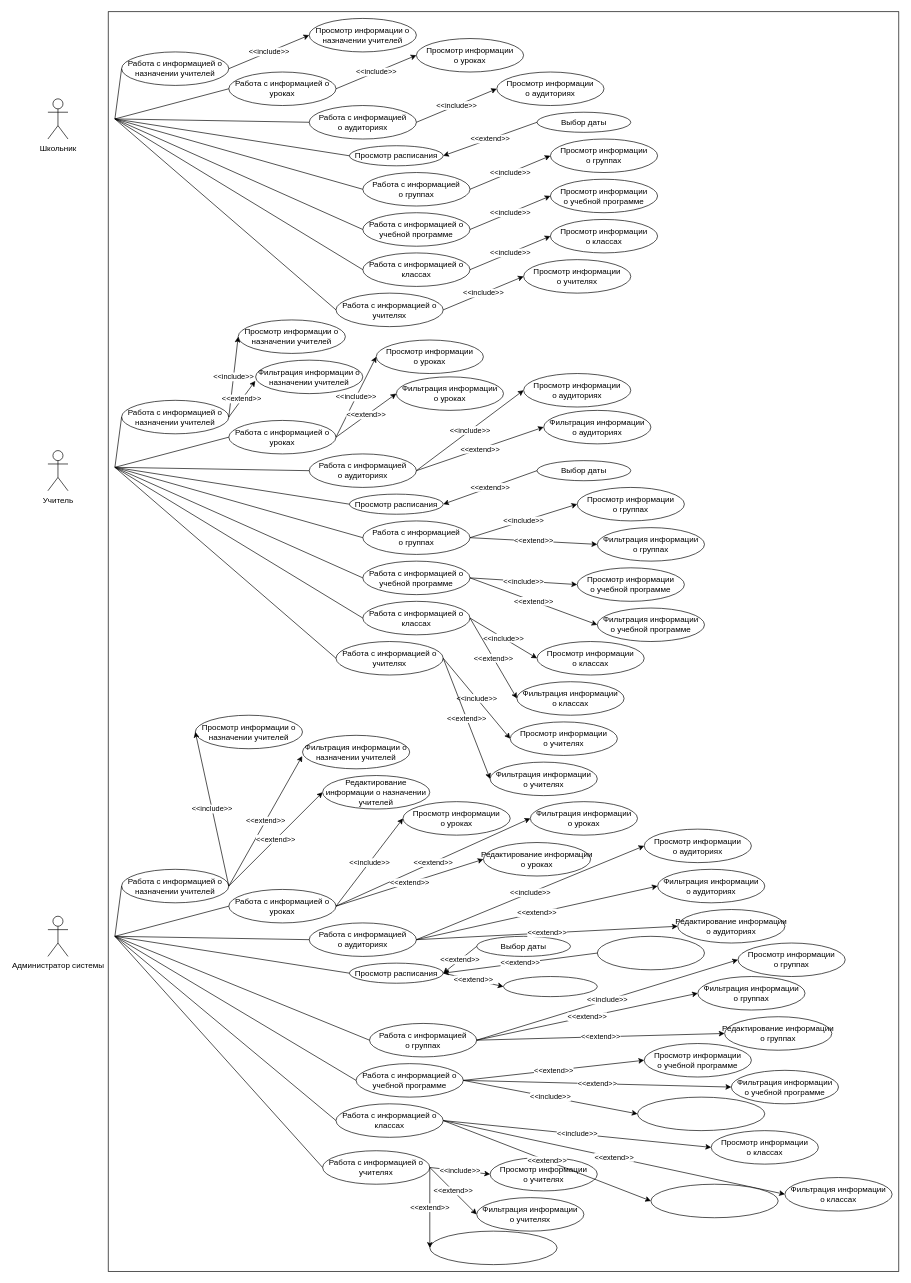
The diagram is 911 pixels wide and 1283 high, and some of its shapes have lost their labels. Each missing label, with the centre of its shape:
Генерация расписания: point 651,953
Печать расписания: point 550,986
Редактирование информации о классах: point 714,1201
Редактирование информации о учебной программе: point 701,1113
Редактирование информации о учителях: point 493,1247
